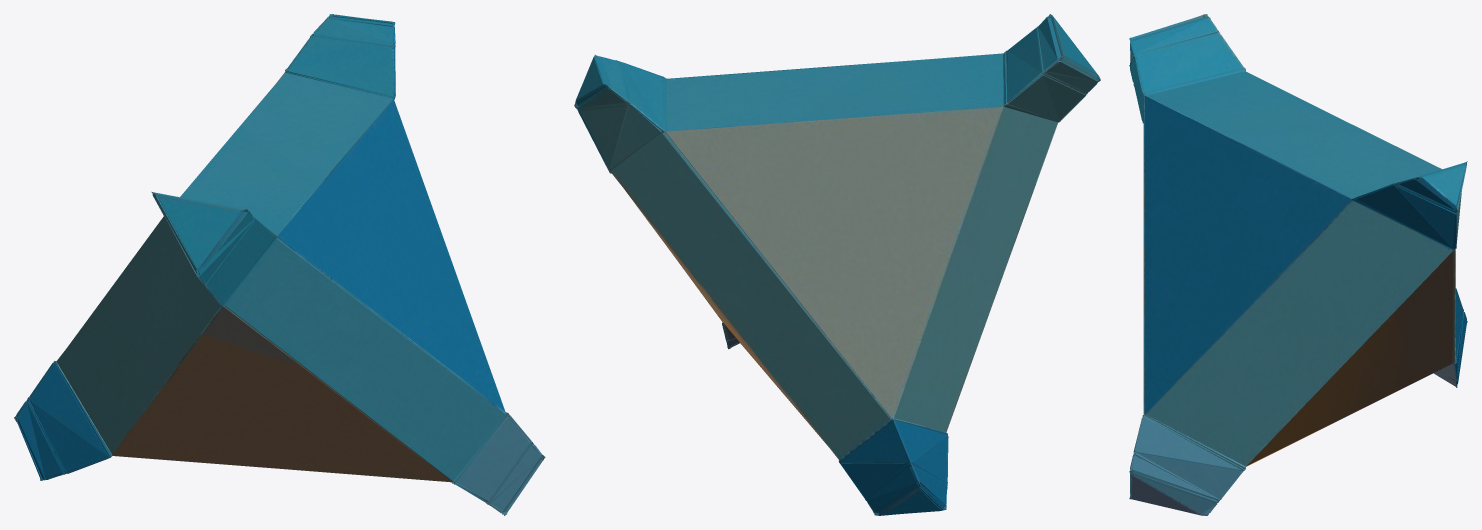
Rendered from penrose-loop.gltf.
3 views of the same model, side by side, from view 1: azimuth 30°, elevation 25°; view 2: azimuth 150°, elevation 25°; view 3: azimuth 270°, elevation 25° (orthographic). The views are drawn at different scales.
Visible parts, largest first — view 1: tripo_node_f52b1a35-90fd-4824-8c2d-6050e2a08024; view 2: tripo_node_f52b1a35-90fd-4824-8c2d-6050e2a08024; view 3: tripo_node_f52b1a35-90fd-4824-8c2d-6050e2a08024.
Boxes of the visible parts, x1,y1,x2,y2 form: tripo_node_f52b1a35-90fd-4824-8c2d-6050e2a08024: (14, 14, 545, 515); tripo_node_f52b1a35-90fd-4824-8c2d-6050e2a08024: (574, 14, 1100, 515); tripo_node_f52b1a35-90fd-4824-8c2d-6050e2a08024: (1129, 14, 1467, 515).
Size of the model in its own units: 0.9941 by 0.998 by 0.877.
1 material, 1 textured.
